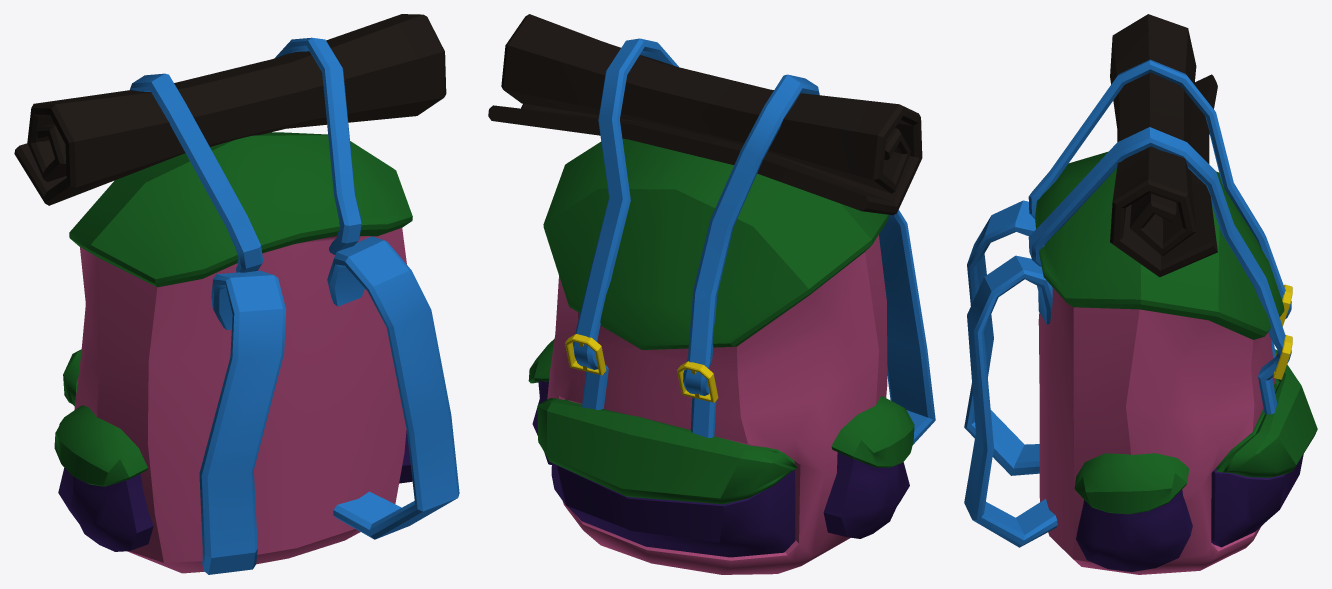
File: Backpack.FBX
The picture shows the model from 3 angles, left to right: view 1: azimuth 30°, elevation 25°; view 2: azimuth 150°, elevation 25°; view 3: azimuth 270°, elevation 25°; orthographic projection. The views are drawn at different scales.
Visible parts, largest first — view 1: Backpack; view 2: Backpack; view 3: Backpack.
Boxes of the visible parts, x1,y1,x2,y2 form: Backpack: (14,14,459,574); Backpack: (488,14,935,574); Backpack: (964,14,1317,574).
Size of the model in its own units: 1066 by 938 by 1298.
